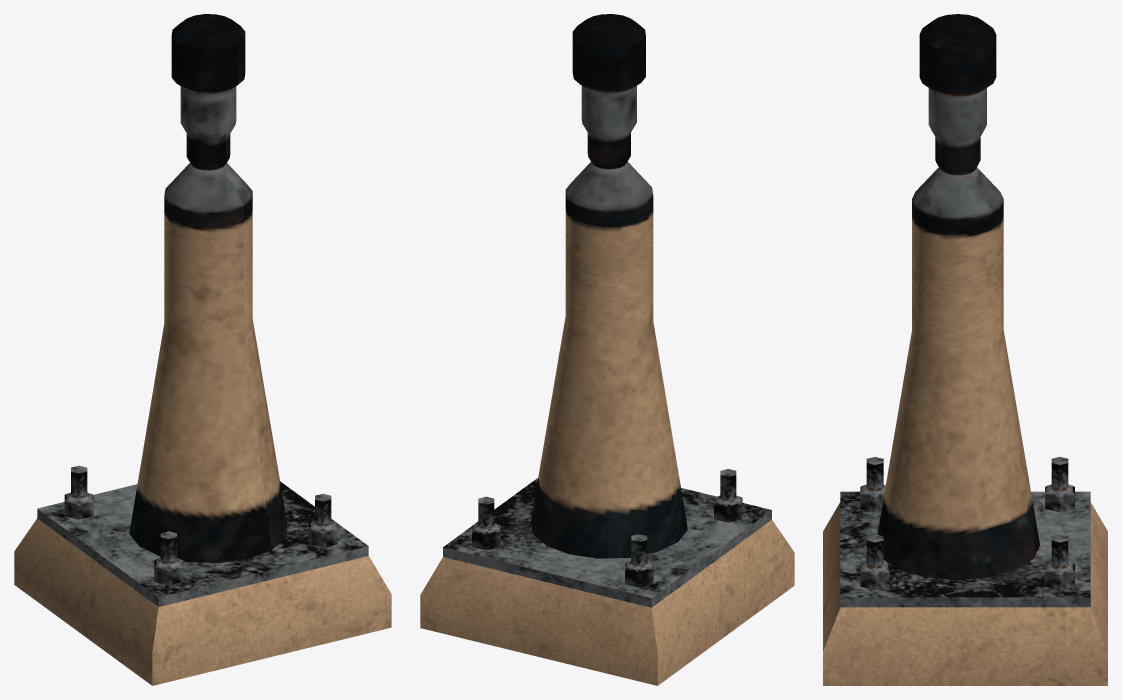
File: SM_plate_pole_decoration_01.fbx
The picture shows the model from 3 angles, left to right: view 1: azimuth 30°, elevation 25°; view 2: azimuth 150°, elevation 25°; view 3: azimuth 270°, elevation 25°; orthographic projection. The views are drawn at different scales.
Parts seen in each view (by area): view 1: SM_plate_pole_decoration_01; view 2: SM_plate_pole_decoration_01; view 3: SM_plate_pole_decoration_01.
Part boxes in pixels (left/top/right/bottom): SM_plate_pole_decoration_01: left=14, top=14, right=391, bottom=685; SM_plate_pole_decoration_01: left=420, top=14, right=794, bottom=685; SM_plate_pole_decoration_01: left=823, top=14, right=1107, bottom=685.
Bounding box in the file's own units: 150 × 349 × 150.
